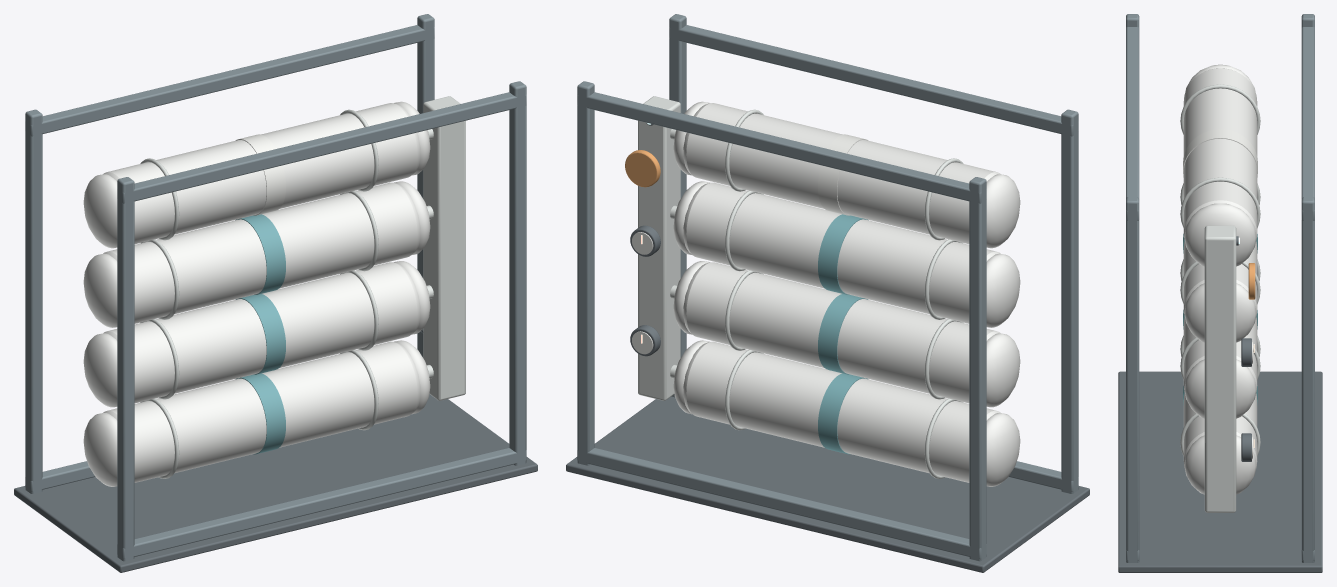
The model's file is air_reserve_rack.glb.
3 views of the same model, side by side, from view 1: azimuth 30°, elevation 25°; view 2: azimuth 150°, elevation 25°; view 3: azimuth 270°, elevation 25° (orthographic). The views are drawn at different scales.
Parts seen in each view (by area): view 1: base_plate_graphite, tank_0_composite_white, tank_1_composite_white, tank_2_composite_white, tank_3_composite_white, manifold_block_satin_steel, rail_back_14_dark_alloy, rail_back_0_dark_alloy, rail_front_14_dark_alloy, post_-8_3_dark_alloy, post_-8_-3_dark_alloy, post_7_-3_dark_alloy (+17 smaller); view 2: base_plate_graphite, tank_0_composite_white, tank_1_composite_white, tank_2_composite_white, tank_3_composite_white, manifold_block_satin_steel, rail_front_14_dark_alloy, rail_front_0_dark_alloy, rail_back_14_dark_alloy, post_-8_3_dark_alloy, post_7_3_dark_alloy, post_-8_-3_dark_alloy (+18 smaller); view 3: base_plate_graphite, manifold_block_satin_steel, tank_3_composite_white, post_7_3_dark_alloy, post_7_-3_dark_alloy, rail_back_14_dark_alloy, rail_front_14_dark_alloy, tank_3_neck_composite_white, tank_1_neck_composite_white, tank_2_neck_composite_white, tank_0_neck_composite_white, tank_0_composite_white (+10 smaller).
Boxes of the visible parts, x1,y1,x2,y2 form: base_plate_graphite: [14, 396, 537, 572]; tank_0_composite_white: [103, 341, 420, 482]; tank_1_composite_white: [103, 262, 420, 403]; tank_2_composite_white: [103, 182, 420, 323]; tank_3_composite_white: [103, 103, 420, 244]; manifold_block_satin_steel: [423, 96, 465, 400]; rail_back_14_dark_alloy: [117, 92, 526, 203]; rail_back_0_dark_alloy: [117, 448, 526, 559]; rail_front_14_dark_alloy: [25, 25, 434, 136]; post_-8_3_dark_alloy: [25, 109, 42, 493]; post_-8_-3_dark_alloy: [117, 177, 134, 561]; post_7_-3_dark_alloy: [509, 81, 526, 465]; base_plate_graphite: [566, 396, 1089, 572]; tank_0_composite_white: [683, 341, 1000, 482]; tank_1_composite_white: [683, 262, 1000, 403]; tank_2_composite_white: [683, 182, 1000, 323]; tank_3_composite_white: [683, 103, 1000, 244]; manifold_block_satin_steel: [638, 96, 680, 400]; rail_front_14_dark_alloy: [577, 92, 986, 203]; rail_front_0_dark_alloy: [577, 448, 986, 559]; rail_back_14_dark_alloy: [669, 25, 1078, 136]; post_-8_3_dark_alloy: [969, 177, 986, 561]; post_7_3_dark_alloy: [577, 81, 594, 465]; post_-8_-3_dark_alloy: [1061, 109, 1078, 493]; base_plate_graphite: [1118, 371, 1322, 572]; manifold_block_satin_steel: [1204, 225, 1236, 512]; tank_3_composite_white: [1183, 68, 1257, 240]; post_7_3_dark_alloy: [1301, 197, 1314, 562]; post_7_-3_dark_alloy: [1126, 197, 1139, 562]; rail_back_14_dark_alloy: [1126, 27, 1139, 220]; rail_front_14_dark_alloy: [1301, 27, 1314, 220]; tank_3_neck_composite_white: [1184, 203, 1256, 266]; tank_1_neck_composite_white: [1184, 359, 1256, 418]; tank_2_neck_composite_white: [1184, 283, 1256, 342]; tank_0_neck_composite_white: [1184, 435, 1256, 494]; tank_0_composite_white: [1183, 393, 1257, 468].
Size of the model in its own units: 1.76 by 1.55 by 0.78.
